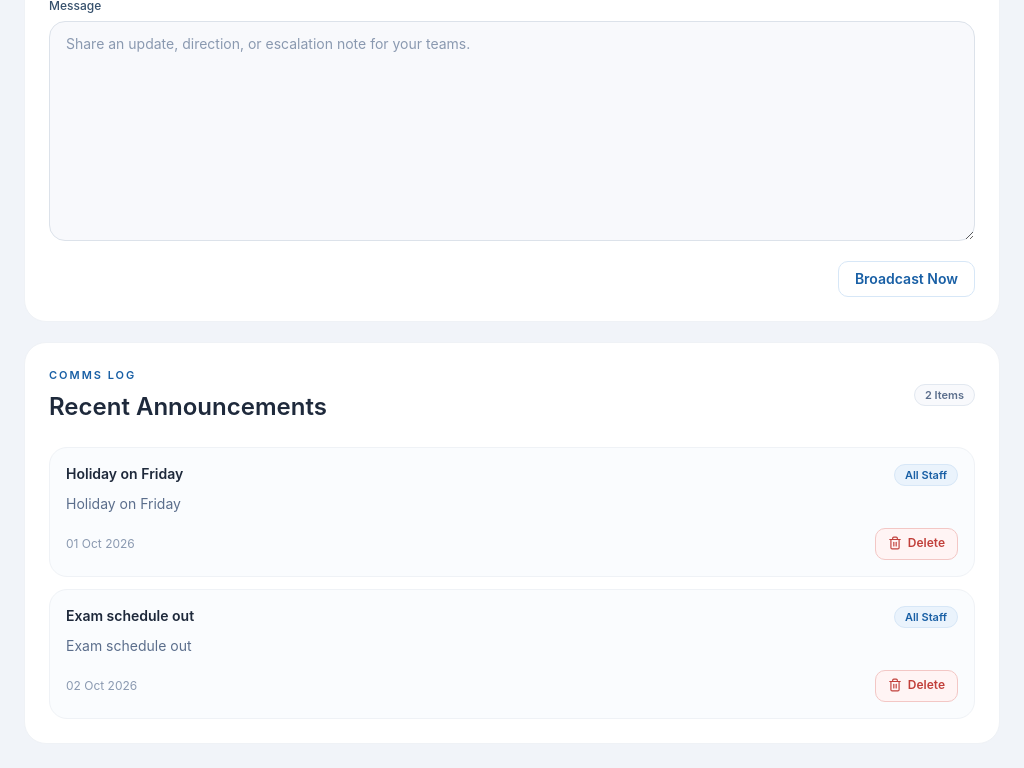
Recent Announcements delete › removes the item from the list immediately on success
(page scrolled)
Check: the 2nd text "Holiday on Friday" is shown, box [66,492,183,516]
Click the button with aria-label "Delete announcement" at (916, 544), box [875,528,958,560]
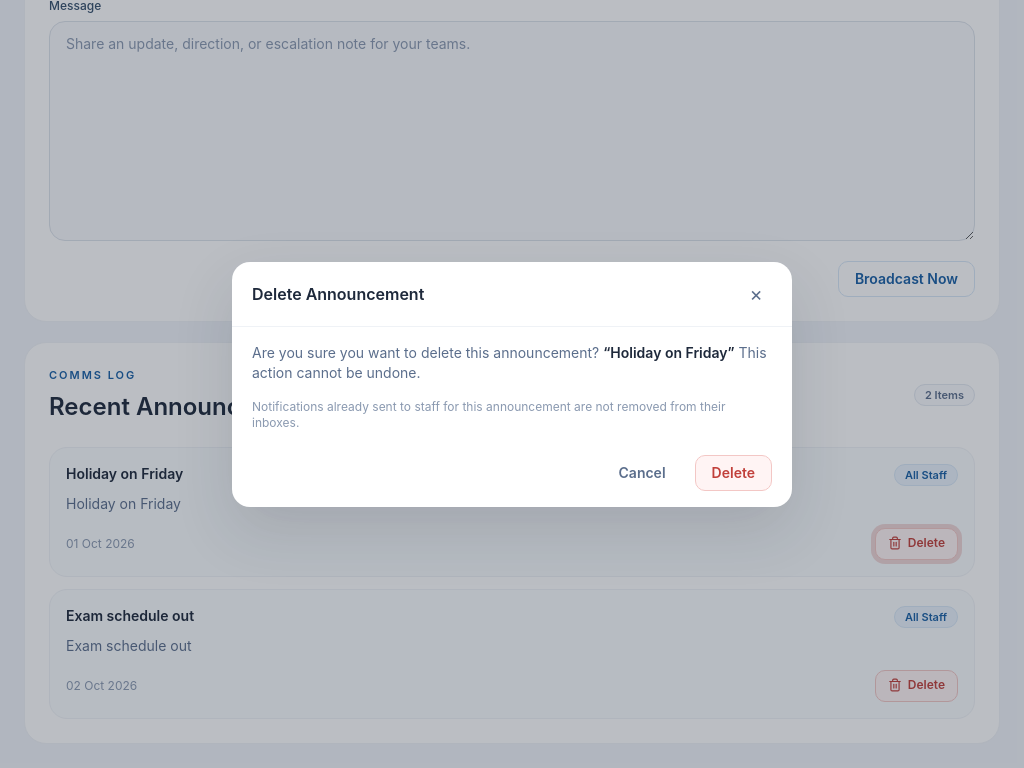
Click the button "Delete" at (733, 472), box [695,454,772,490]
(page scrolled)
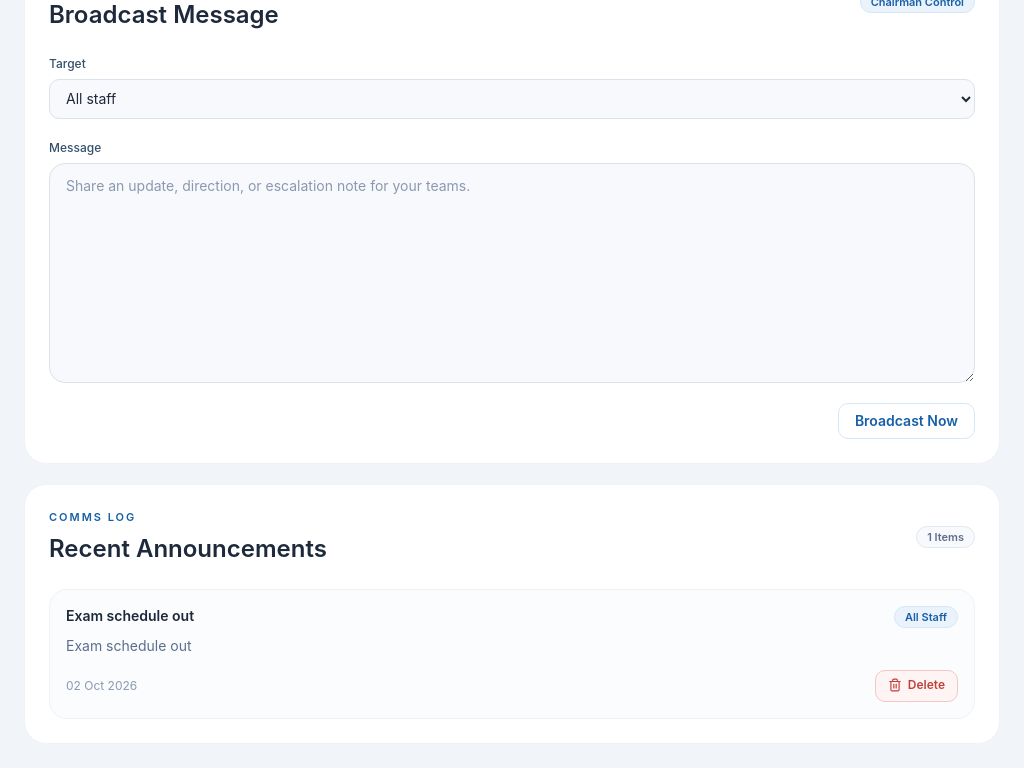
Check: the 2nd text "Exam schedule out" is shown, box [66,634,194,658]
Check: the text "Holiday on Friday" is gone
